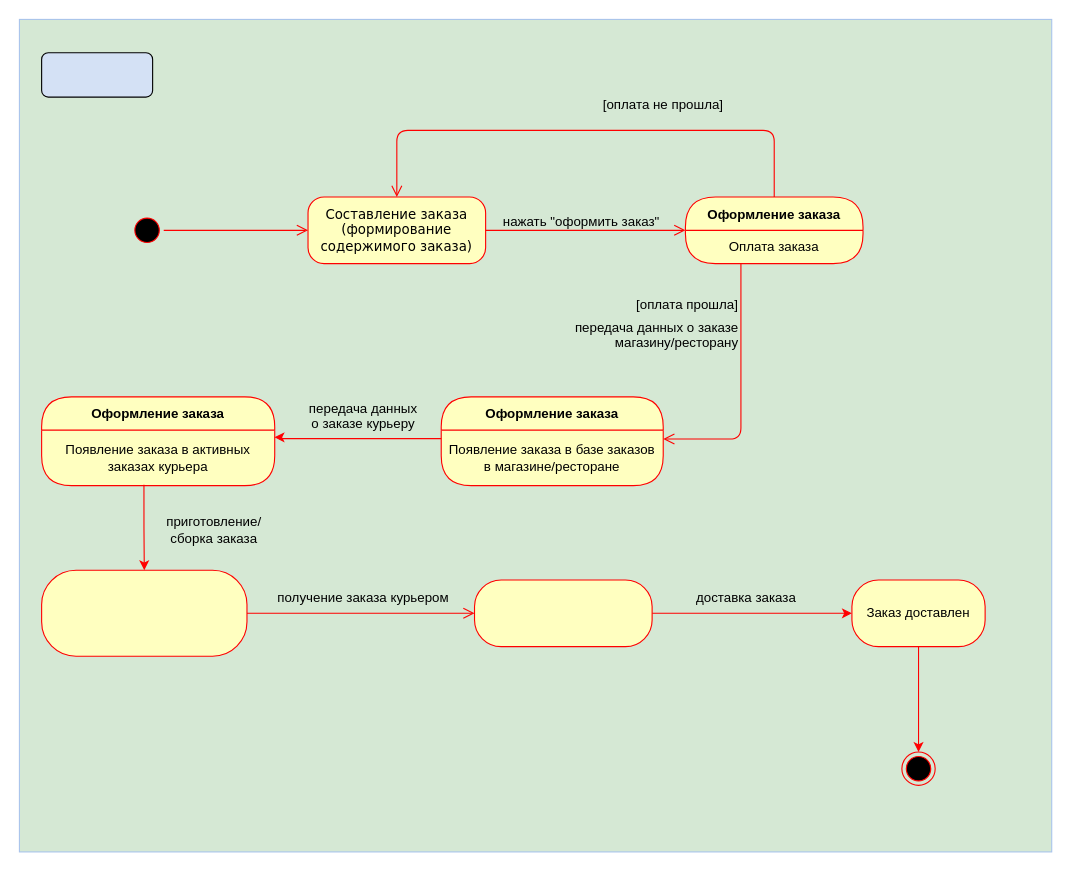
The diagram is 1071 pixels wide and 871 high, and some of its shapes have lost their labels. Each missing label, with the centre of its shape:
"state diagram" belongs at (x=97, y=74).
"Заказ получен курьером" belongs at (x=562, y=613).
"Заказ приготовлен и собран" belongs at (x=144, y=612).
